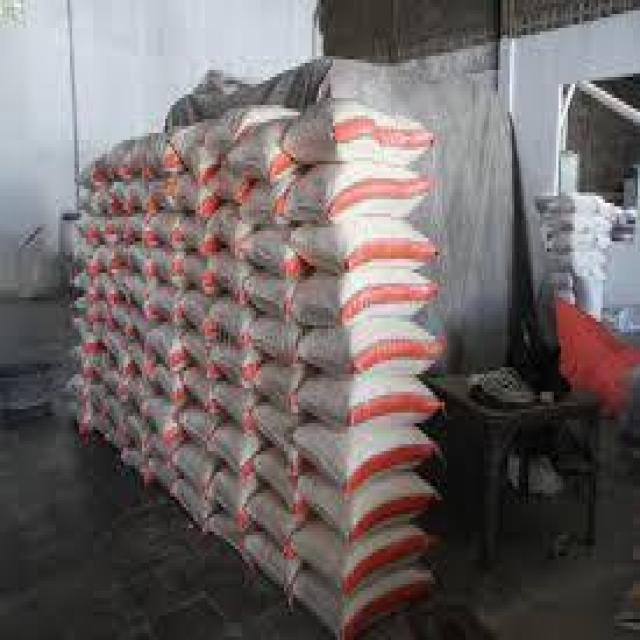gunny_bag: (298, 463, 442, 546), (296, 515, 430, 600), (293, 420, 442, 493), (291, 266, 450, 330), (298, 213, 447, 281), (289, 93, 436, 158), (298, 318, 447, 381), (284, 163, 427, 226), (298, 371, 447, 428), (231, 117, 296, 190), (248, 488, 304, 561), (248, 266, 306, 328), (123, 125, 183, 182), (256, 450, 311, 511), (248, 531, 300, 591), (208, 200, 258, 261), (207, 420, 263, 473), (244, 225, 296, 280), (213, 375, 262, 433), (257, 358, 308, 411), (173, 168, 221, 221), (213, 470, 258, 526), (208, 295, 257, 345), (170, 443, 219, 493), (149, 323, 191, 373), (147, 208, 191, 255), (142, 393, 182, 443), (183, 368, 228, 411), (218, 341, 260, 383), (152, 280, 190, 326), (182, 403, 217, 450), (123, 238, 157, 286), (180, 251, 219, 291), (126, 273, 163, 313), (104, 323, 133, 373), (99, 396, 131, 436)
